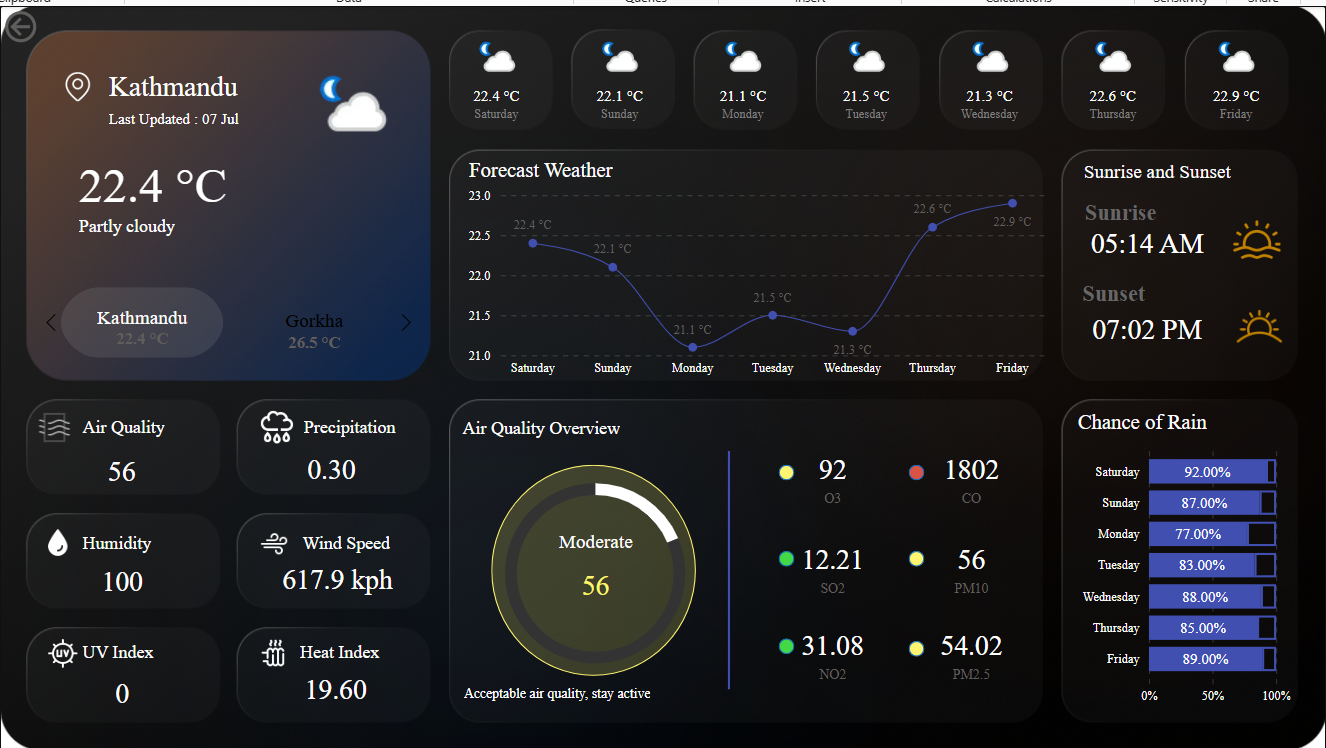

This screenshot's page, from the dashboard's own definition file:
{"tool":"powerbi","page":{"name":"Page 1","canvas":[1280,720],"ordinal":0},"visuals":[{"type":"shape","box":[473.8,442.5,197.5,203.8],"z":0},{"type":"advancedSlicerVisual","fields":{"Values":["Locations.location.name"]},"box":[33.3,267,373.3,75.6],"z":1000},{"type":"shape","box":[75.6,147.8,211.1,48.9],"z":2000},{"type":"shape","box":[75.6,196.7,297.8,32.2],"z":3000},{"type":"shape","box":[105,58.8,138.8,38.8],"z":4000},{"type":"image","box":[48.8,58.8,53.8,37.5],"z":5000},{"type":"shape","box":[105,97.5,137.5,22.5],"z":6000},{"type":"cardVisual","fields":{"Data":["Min(Current.current.condition.icon)"]},"box":[286.7,50,110,93.3],"z":7000},{"type":"image","box":[35,500,41,37],"z":8000},{"type":"shape","box":[80,507,105,25],"z":9000},{"type":"card","fields":{"Values":["Sum(Current.current.humidity)"]},"box":[74,532,89,47],"z":10000},{"type":"image","box":[243.7,500.7,42.2,37.4],"z":11000},{"type":"shape","box":[292,506.7,105,25.3],"z":12000},{"type":"card","fields":{"Values":["_Measures.Wind_Speed"]},"box":[233,527,186,52],"z":13000},{"type":"image","box":[29,383,47,48],"z":14000},{"type":"shape","box":[80,394,105,25],"z":15000},{"type":"card","fields":{"Values":["Sum(Current.current.air_quality.pm10)"]},"box":[80,431,76,37],"z":16000},{"type":"image","box":[243,383,50,48],"z":17000},{"type":"shape","box":[293,394,105,25],"z":18000},{"type":"card","fields":{"Values":["Sum(Current.current.precip_mm)"]},"box":[287,431,66,34],"z":19000},{"type":"image","box":[41,605,39,40],"z":20000},{"type":"shape","box":[80,612,105,25],"z":21000},{"type":"card","fields":{"Values":["Sum(Current.current.uv)"]},"box":[94,645,48,36],"z":22000},{"type":"actionButton","box":[0,0,100,40],"z":23000},{"type":"image","box":[242,605,44,40],"z":24000},{"type":"shape","box":[290,612,105,25],"z":25000},{"type":"card","fields":{"Values":["Sum(Current.current.heatindex_c)"]},"box":[287,640,74,41],"z":26000},{"type":"advancedSlicerVisual","fields":{"Values":["Forecast_Day.Forecast_Day"]},"box":[418.9,25.6,841.1,104.4],"z":27000},{"type":"lineChart","title":"Forecast Weather","fields":{"Category":["Forecast_Day.Forecast_Day"],"Y":["Sum(Forecast_Day.forecast.forecastday.day.avgtemp_c)"]},"box":[447.1,147.1,565.7,217.1],"z":28000},{"type":"shape","box":[1046.2,147.5,151.2,25],"z":29000},{"type":"card","fields":{"Values":["Min(Forecast_Day.Sunrise_Date)"]},"box":[1045,213.8,125,31.2],"z":30000},{"type":"card","fields":{"Values":["Min(Forecast_Day.Sunset_Date)"]},"box":[1045,296.2,125,30],"z":31000},{"type":"shape","box":[1047.5,187.5,125,25],"z":32000},{"type":"shape","box":[1044.5,265.5,125,25],"z":33000},{"type":"image","box":[1184.5,197.3,56.4,55.5],"z":34000},{"type":"image","box":[1180,274.5,70.9,68.2],"z":35000},{"type":"hundredPercentStackedBarChart","title":"Chance of Rain","fields":{"Y":["Sum(Forecast_Day.forecast.forecastday.day.daily_chance_of_rain)","_Measures.Left_Value_Rain"],"Category":["Forecast_Day.Forecast_Day"]},"box":[1035.7,391.4,215.7,290],"z":36000},{"type":"card","fields":{"Values":["Sum(Current.current.air_quality.co)"]},"box":[892.5,420,90,70],"z":37000},{"type":"shape","box":[446.7,395.6,166.7,24.4],"z":38000},{"type":"card","fields":{"Values":["Sum(Current.current.air_quality.pm10)"]},"box":[892.5,506.2,90,70],"z":39000},{"type":"card","fields":{"Values":["Sum(Current.current.air_quality.pm2_5)"]},"box":[892.5,590,90,70],"z":40000},{"type":"card","fields":{"Values":["Sum(Current.current.air_quality.o3)"]},"box":[758.8,420,90,70],"z":41000},{"type":"card","fields":{"Values":["Sum(Current.current.air_quality.so2)"]},"box":[758.8,506.2,90,70],"z":42000},{"type":"card","fields":{"Values":["Sum(Current.current.air_quality.no2)"]},"box":[758.8,590,90,70],"z":43000},{"type":"shape","box":[877.5,526.2,15,15],"z":44000},{"type":"shape","box":[877.5,442.5,15,15],"z":45000},{"type":"shape","box":[877.5,612.5,15,15],"z":46000},{"type":"shape","box":[751.2,442.5,15,15],"z":47000},{"type":"shape","box":[751.2,526.2,15,15],"z":48000},{"type":"shape","box":[751.2,610,15,15],"z":49000},{"type":"shape","box":[628.8,430,150,230],"z":50000},{"type":"card","fields":{"Values":["Sum(Current.current.air_quality.pm10)"]},"box":[518.8,506.2,112.5,83.8],"z":51000},{"type":"donutChart","fields":{"Y":["Sum(Current.current.air_quality.pm10)","_Measures.Left_value_PM10"]},"box":[461.2,425,227.5,246.2],"z":52000},{"type":"shape","box":[447.8,651.1,255.6,24.4],"z":53000}]}

Visuals, with their boxes on the page's 1280x720 design canvas (x1, y1, x2, y2). These are canvas units, not pixel positions in the 1326x748 screenshot, which may show the page scaled, cropped or inside an application window:
shape: (474,442,671,646)
advancedSlicerVisual - Locations.location.name: (33,267,407,343)
shape: (76,148,287,197)
shape: (76,197,373,229)
shape: (105,59,244,98)
image: (49,59,103,96)
shape: (105,98,242,120)
cardVisual - Min(Current.current.condition.icon): (287,50,397,143)
image: (35,500,76,537)
shape: (80,507,185,532)
card - Sum(Current.current.humidity): (74,532,163,579)
image: (244,501,286,538)
shape: (292,507,397,532)
card - _Measures.Wind_Speed: (233,527,419,579)
image: (29,383,76,431)
shape: (80,394,185,419)
card - Sum(Current.current.air_quality.pm10): (80,431,156,468)
image: (243,383,293,431)
shape: (293,394,398,419)
card - Sum(Current.current.precip_mm): (287,431,353,465)
image: (41,605,80,645)
shape: (80,612,185,637)
card - Sum(Current.current.uv): (94,645,142,681)
actionButton: (0,0,100,40)
image: (242,605,286,645)
shape: (290,612,395,637)
card - Sum(Current.current.heatindex_c): (287,640,361,681)
advancedSlicerVisual - Forecast_Day.Forecast_Day: (419,26,1260,130)
"Forecast Weather" lineChart: (447,147,1013,364)
shape: (1046,148,1197,172)
card - Min(Forecast_Day.Sunrise_Date): (1045,214,1170,245)
card - Min(Forecast_Day.Sunset_Date): (1045,296,1170,326)
shape: (1048,188,1172,212)
shape: (1044,266,1170,290)
image: (1184,197,1241,253)
image: (1180,274,1251,343)
"Chance of Rain" hundredPercentStackedBarChart: (1036,391,1251,681)
card - Sum(Current.current.air_quality.co): (892,420,982,490)
shape: (447,396,613,420)
card - Sum(Current.current.air_quality.pm10): (892,506,982,576)
card - Sum(Current.current.air_quality.pm2_5): (892,590,982,660)
card - Sum(Current.current.air_quality.o3): (759,420,849,490)
card - Sum(Current.current.air_quality.so2): (759,506,849,576)
card - Sum(Current.current.air_quality.no2): (759,590,849,660)
shape: (878,526,892,541)
shape: (878,442,892,458)
shape: (878,612,892,628)
shape: (751,442,766,458)
shape: (751,526,766,541)
shape: (751,610,766,625)
shape: (629,430,779,660)
card - Sum(Current.current.air_quality.pm10): (519,506,631,590)
donutChart - Sum(Current.current.air_quality.pm10) x _Measures.Left_value_PM10: (461,425,689,671)
shape: (448,651,703,676)
